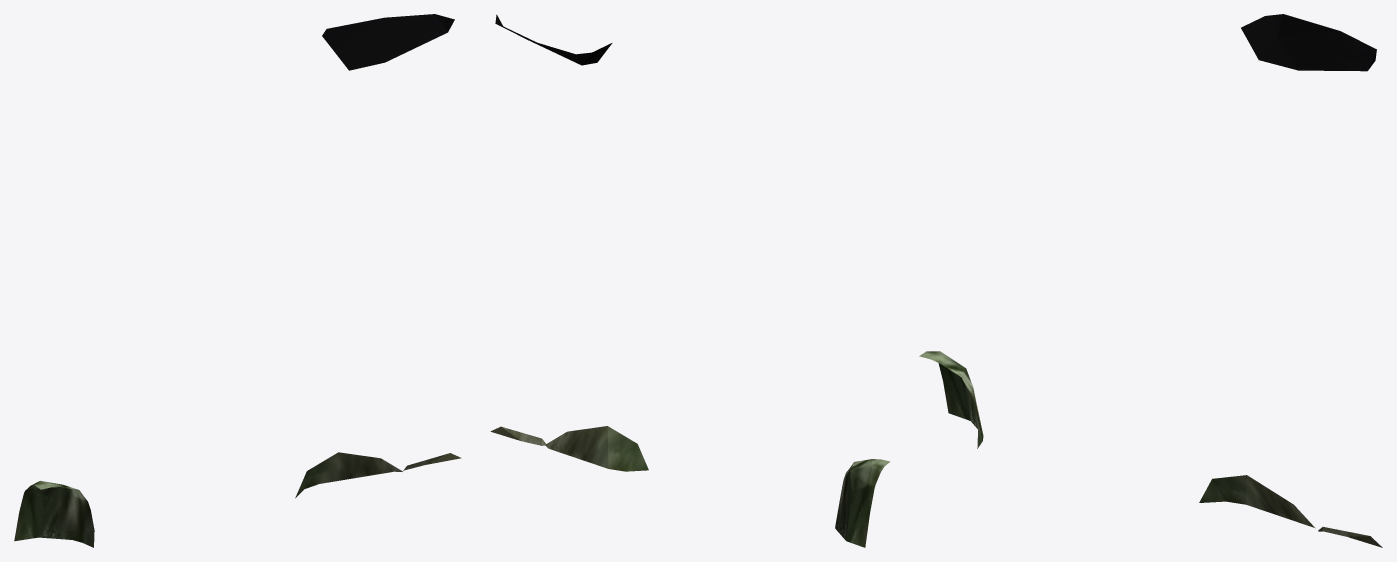
3 views of the same model, side by side, from view 1: azimuth 30°, elevation 25°; view 2: azimuth 150°, elevation 25°; view 3: azimuth 330°, elevation 25° (orthographic). The views are drawn at different scales.
Size of the model in its own units: 2.95 by 2.95 by 0.3249.
Materials: 1 (1 with a texture image).
